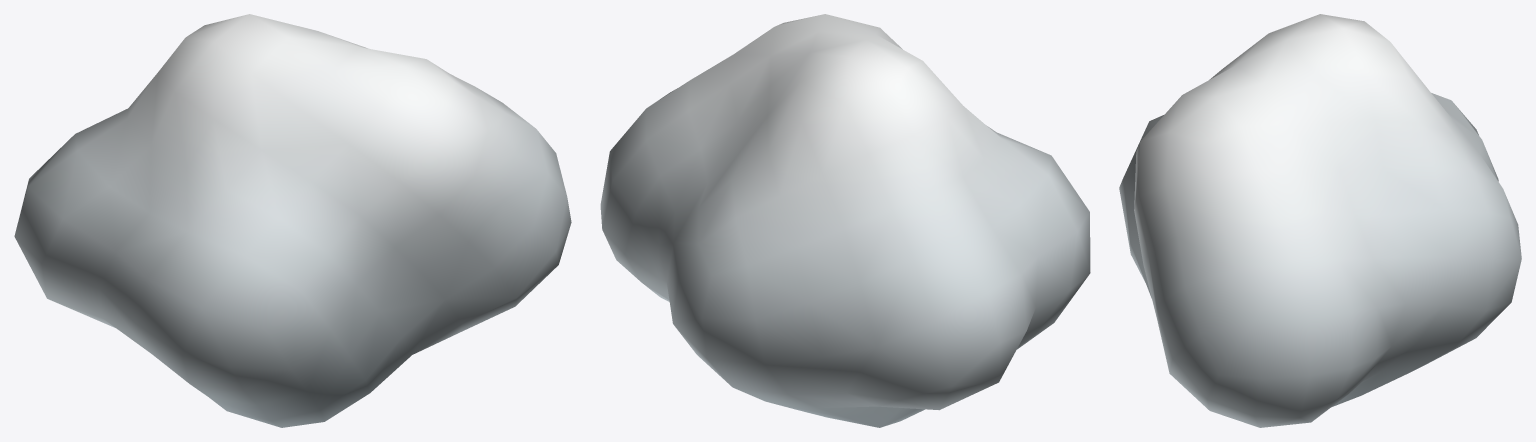
The model's file is sky_cloud.glb.
3 renders of one model, left to right at view 1: azimuth 30°, elevation 25°; view 2: azimuth 150°, elevation 25°; view 3: azimuth 270°, elevation 25°, orthographic. The views are drawn at different scales.
Visible parts, largest first — view 1: sky_cloud; view 2: sky_cloud; view 3: sky_cloud.
Part boxes in pixels (bbox=[...]): sky_cloud: bbox=[14, 14, 571, 427]; sky_cloud: bbox=[600, 14, 1090, 427]; sky_cloud: bbox=[1119, 14, 1521, 427].
Bounding box in the file's own units: 10.17 × 8 × 7.79.
Materials: 1 (1 with a texture image).
